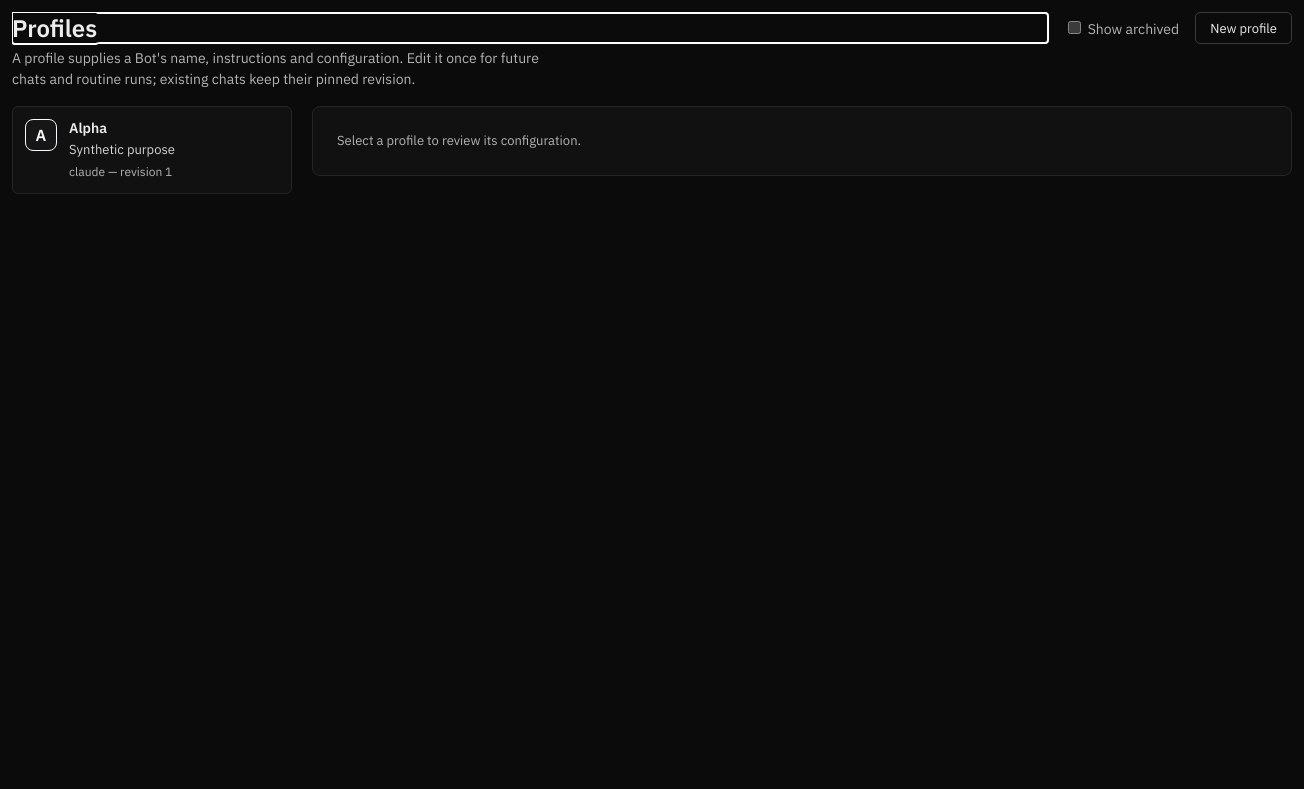
Test: ProfilesView › shows neutral accent labels with legacy values and saves the selected key
The width and height of the screenshot is (1304, 789).
Later steps or results of the test are not shown.
Click the button with aria-label "Alpha — claude — revision 1": point(152, 150) x1=12 y1=106 x2=292 y2=194
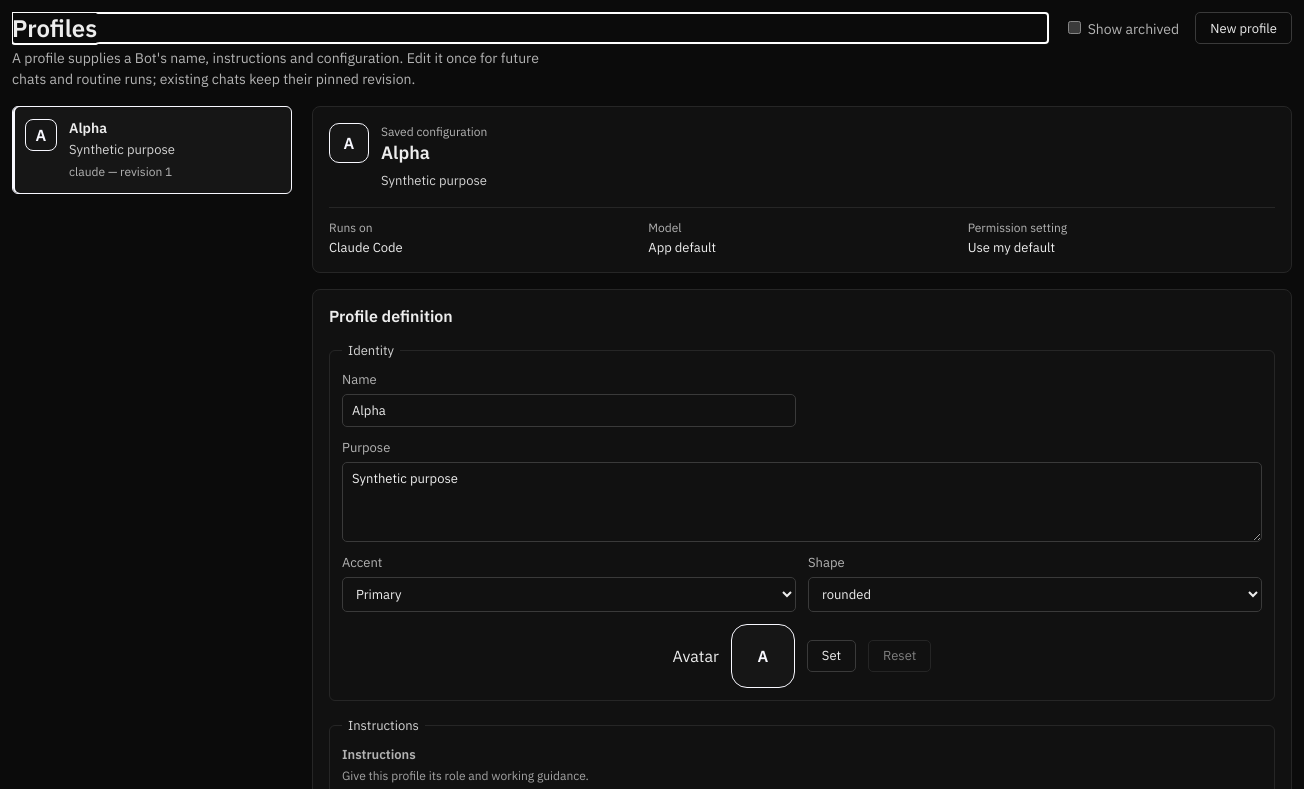
Expected: the dropdown labelled "Accent" shows "Primary", x1=342 y1=577 x2=796 y2=612
